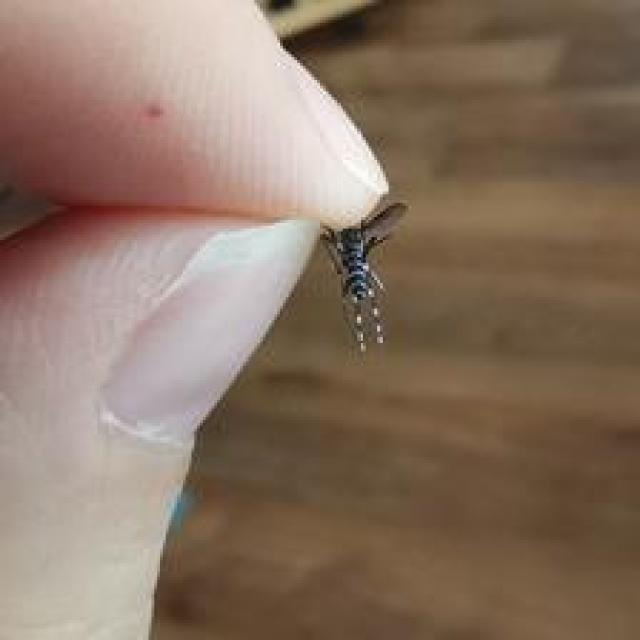Aedes albopictus: (317, 200, 409, 354)
